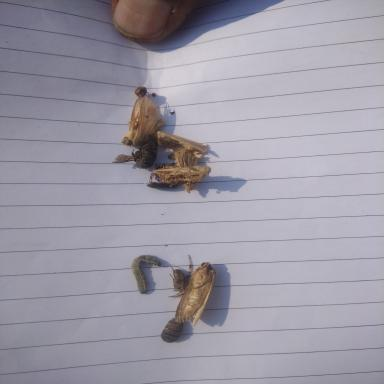abw: (171, 254, 219, 326), (111, 94, 165, 145), (144, 164, 215, 191), (156, 128, 214, 158)
